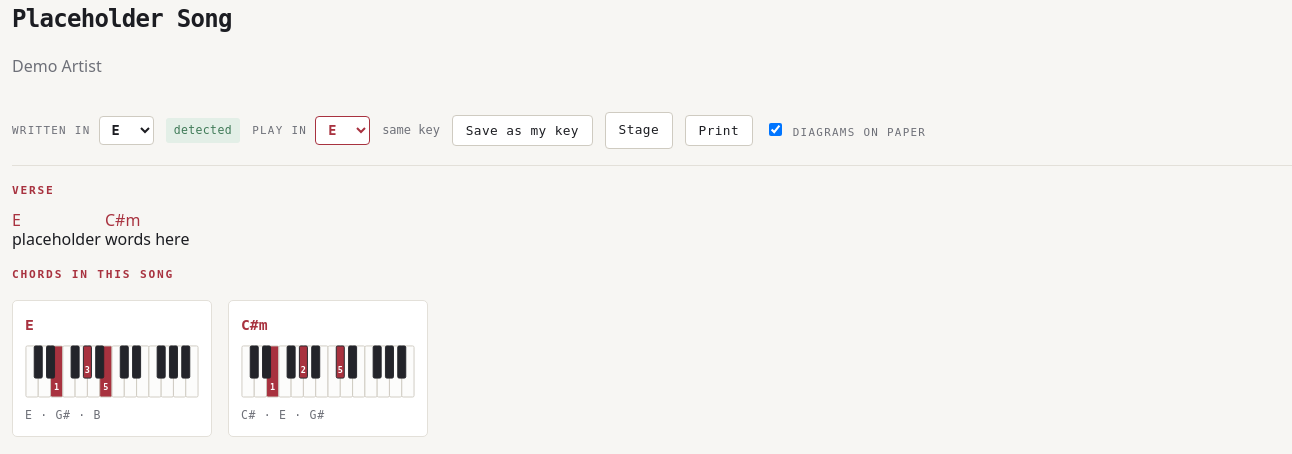
Test: SongPage › shows the semitone distance
The width and height of the screenshot is (1292, 454).
Expected: the heading "Placeholder Song" is shown, [12, 5, 232, 33]
Select "C" in the dropdown labelled "Play in" at (343, 130), box [315, 116, 370, 145]
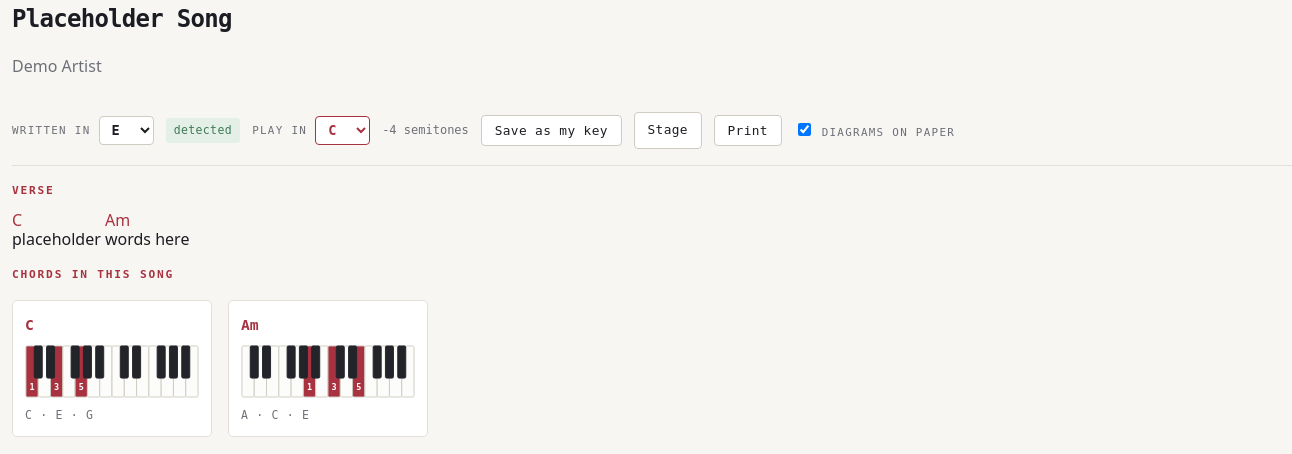
Expected: the text "-4 semitones" is shown, [382, 121, 469, 140]
